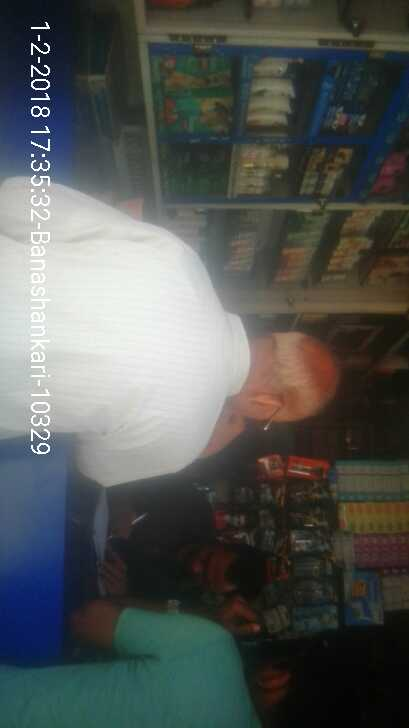beauty: (249, 58, 304, 79), (248, 78, 304, 97), (250, 96, 300, 116)
pharmacy: (155, 50, 239, 90), (159, 93, 238, 133)
